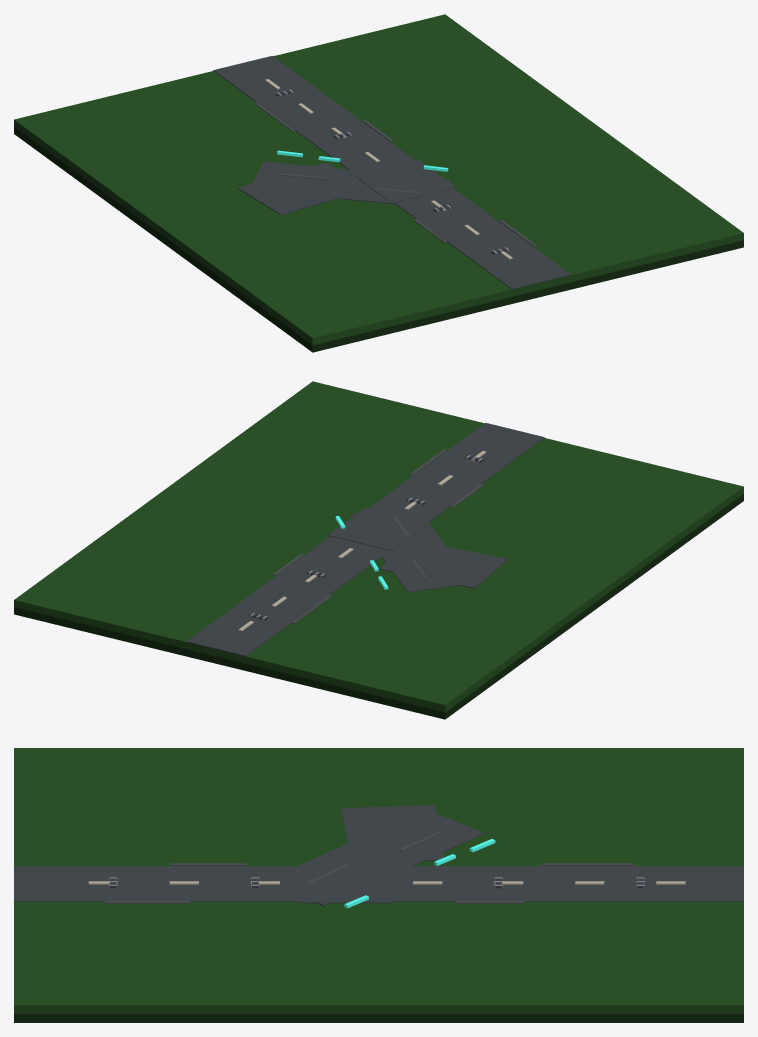
The model's file is scene__afterlightTerrain.glb.
The picture shows the model from 3 angles, top to bottom: view 1: azimuth 30°, elevation 25°; view 2: azimuth 150°, elevation 25°; view 3: azimuth 270°, elevation 25°; orthographic projection. The views are drawn at different scales.
Size of the model in its own units: 15 by 0.61 by 18.
